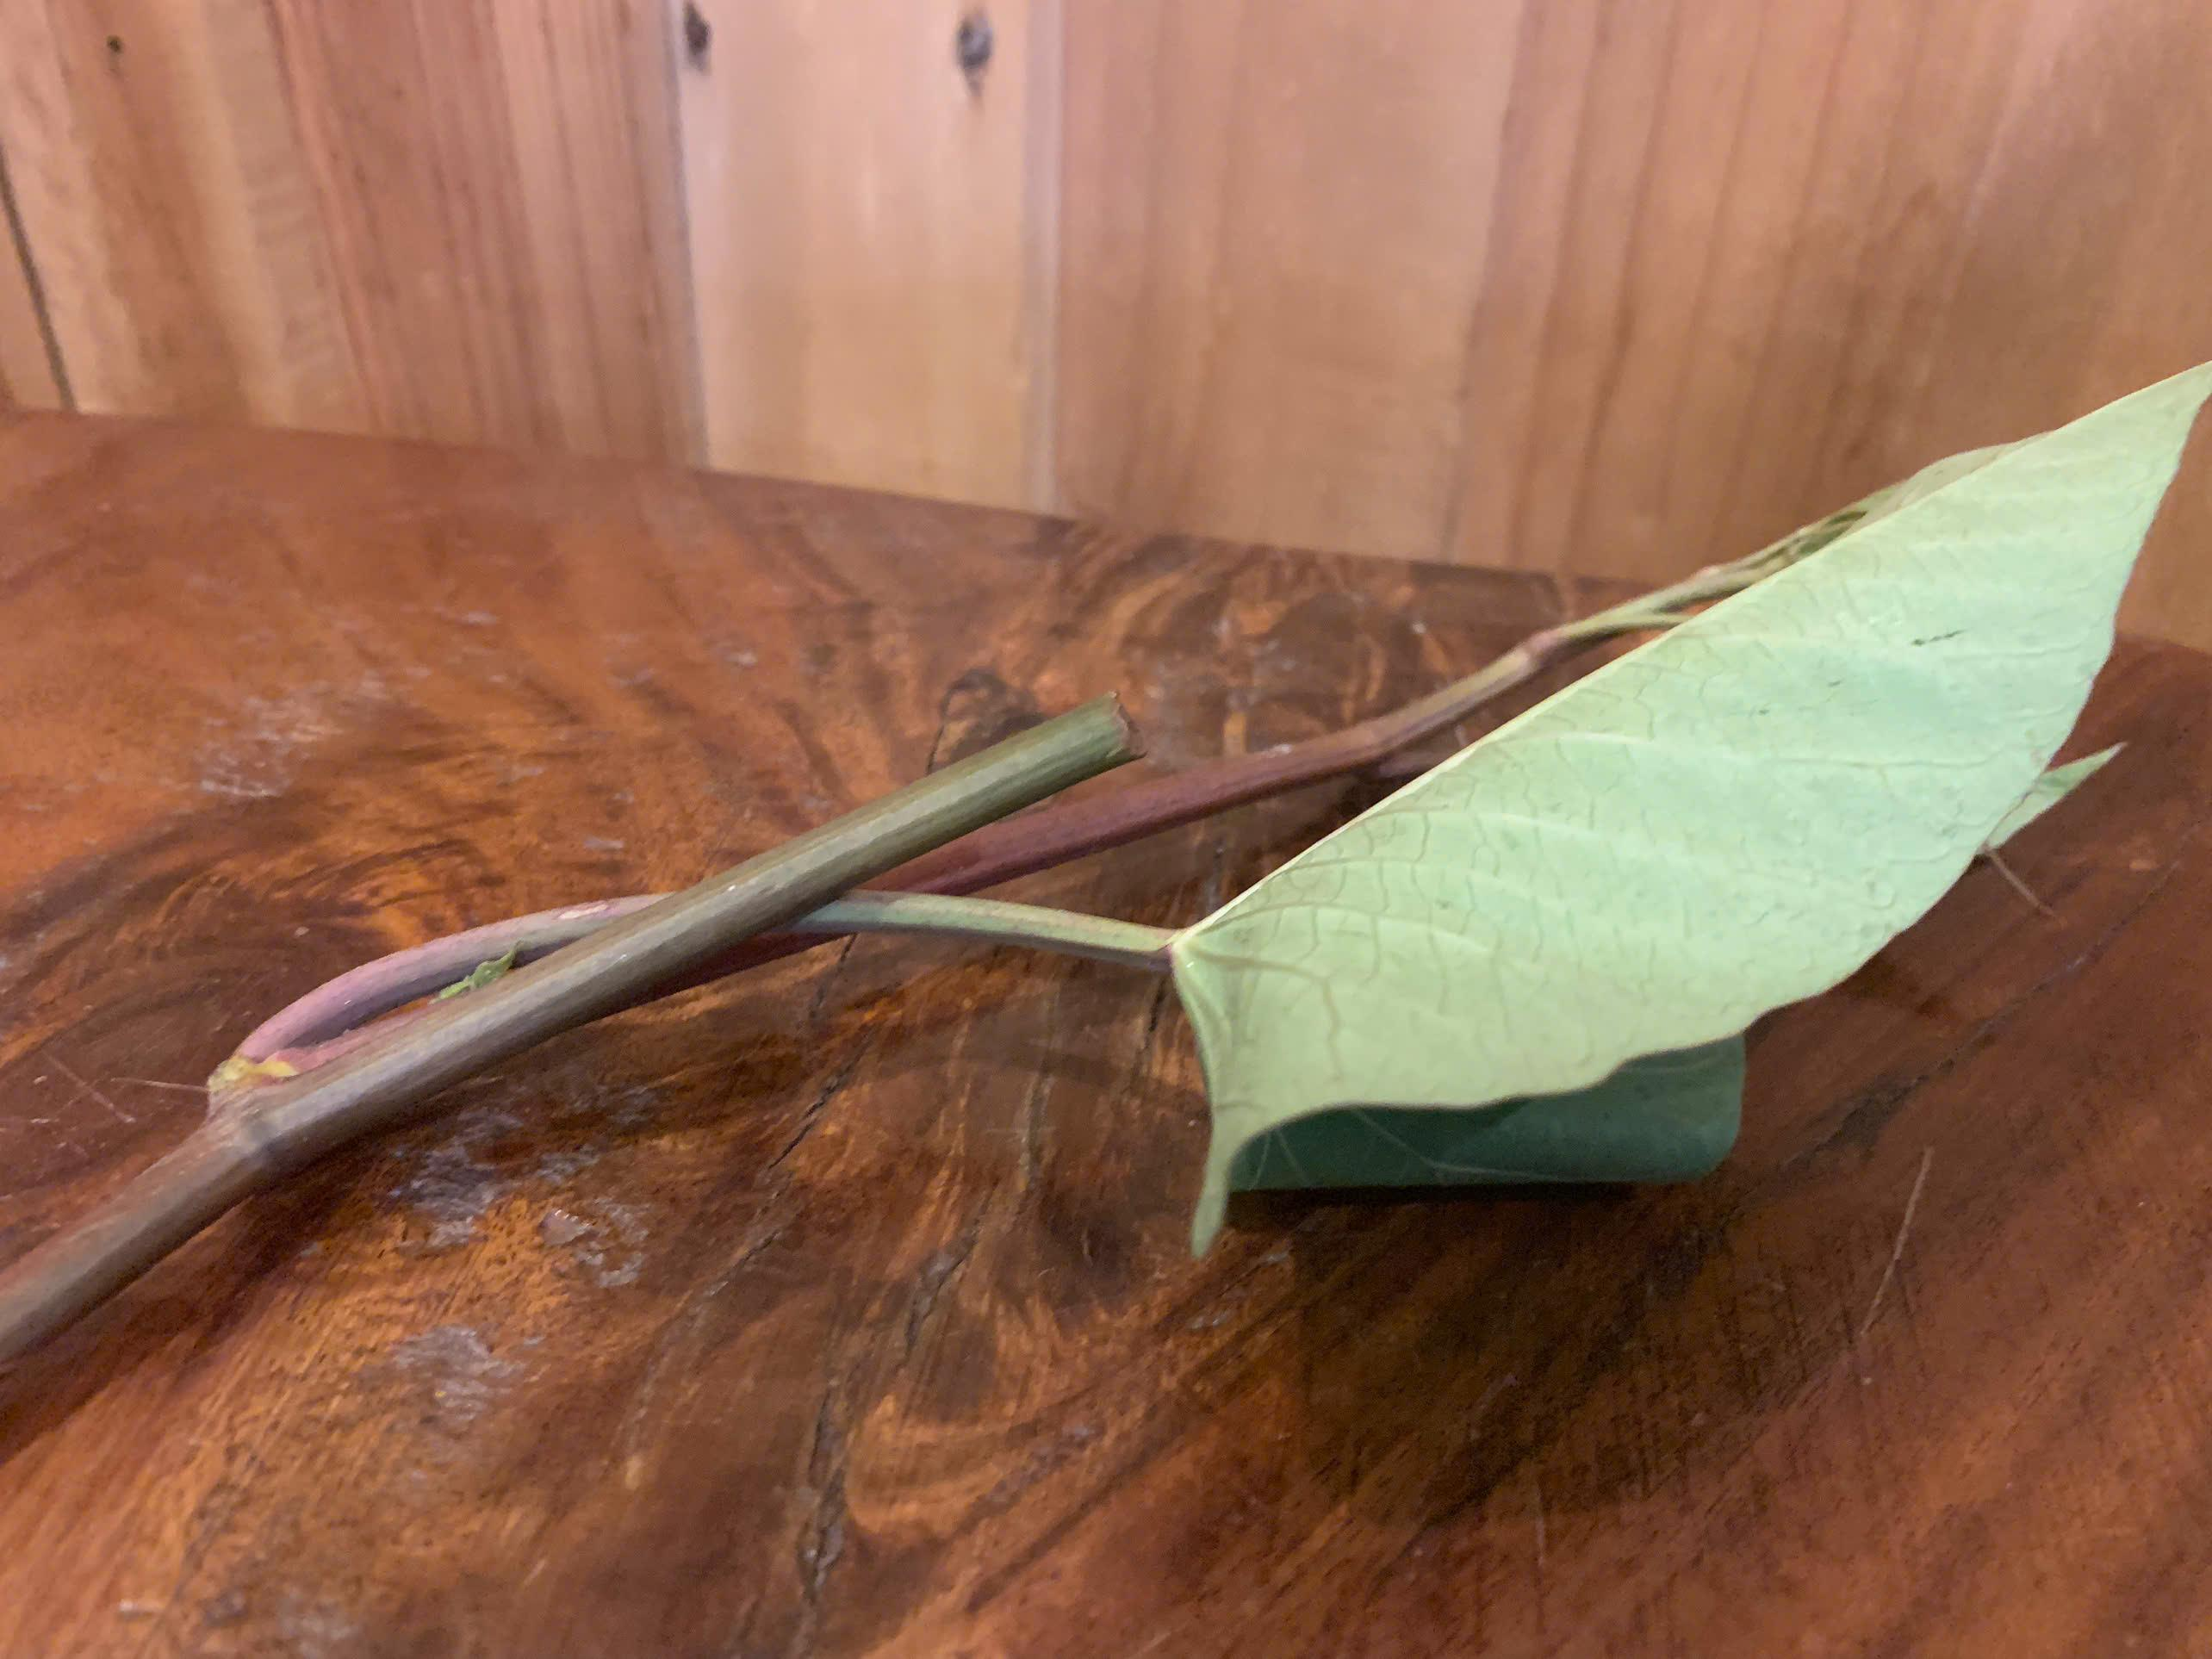Huu co: (155, 382, 2212, 1253)
